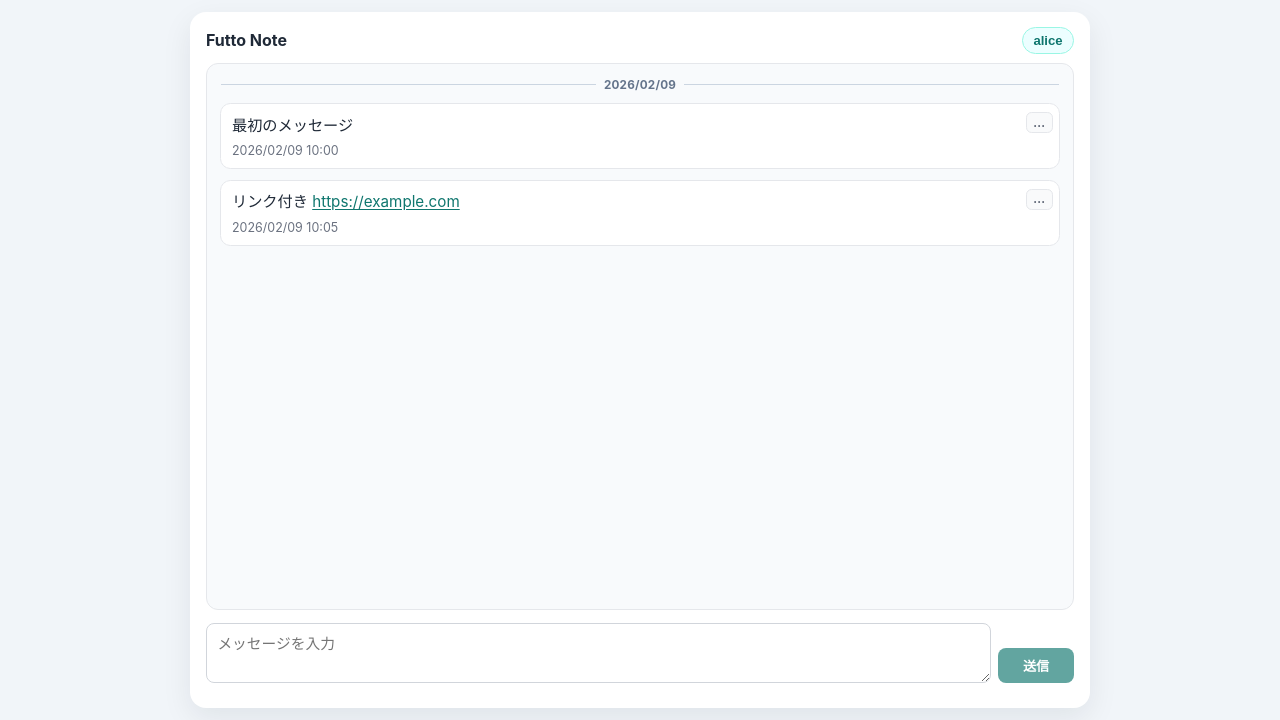
Test: App › 編集保存成功時に本文が更新される
Expected: the text "最初のメッセージ" is shown, [232,116,353,134]
Click the button with test id "message-menu-trigger" in the row of "最初のメッセージ" at {"x": 1040, "y": 123}, box [1026,112,1053,133]
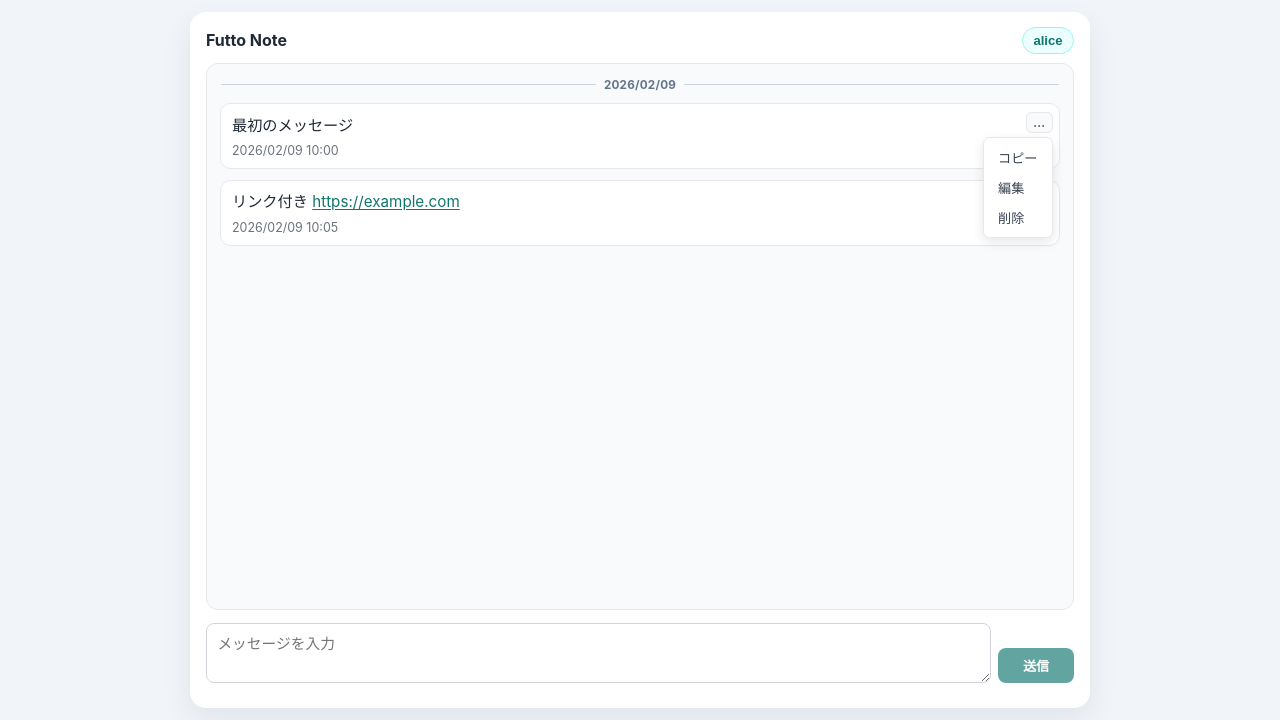
Click the button with test id "message-edit-button" at {"x": 1018, "y": 187}, box [988,172,1048,202]
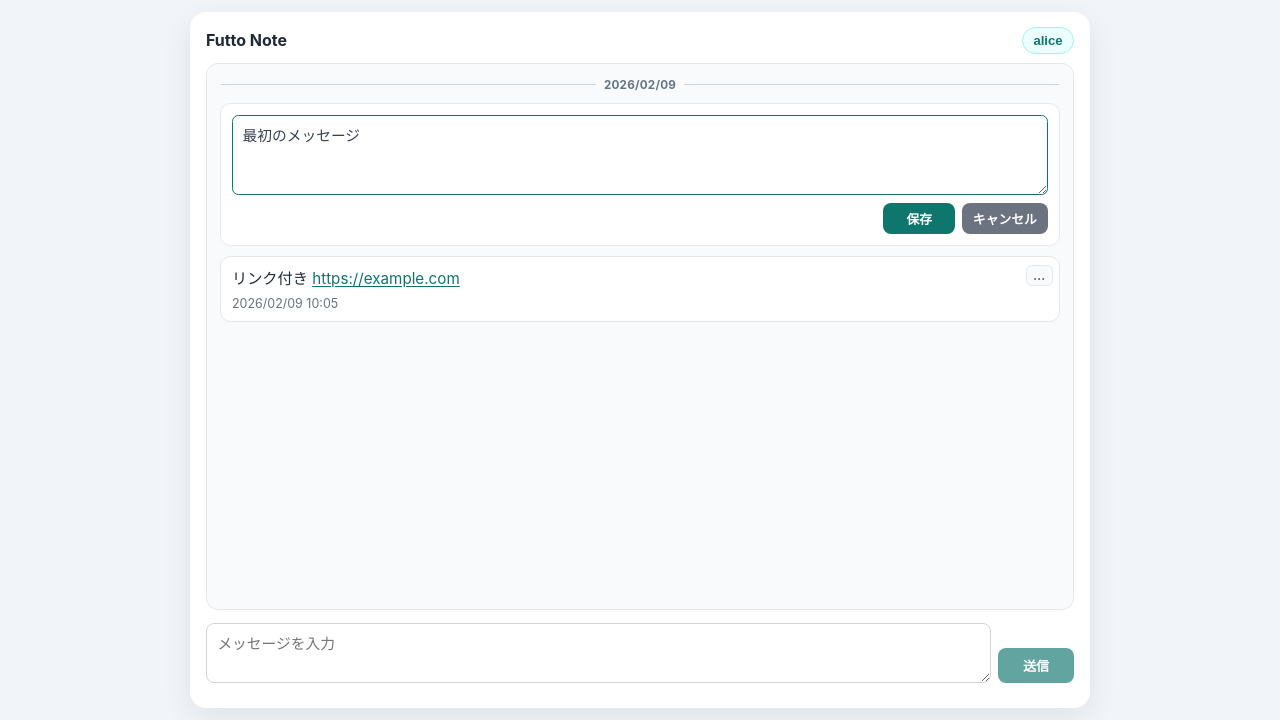
Replace the text in the text box with test id "edit-textarea" with "更新されたメッセージ" at {"x": 640, "y": 154}, box [232,114,1048,194]
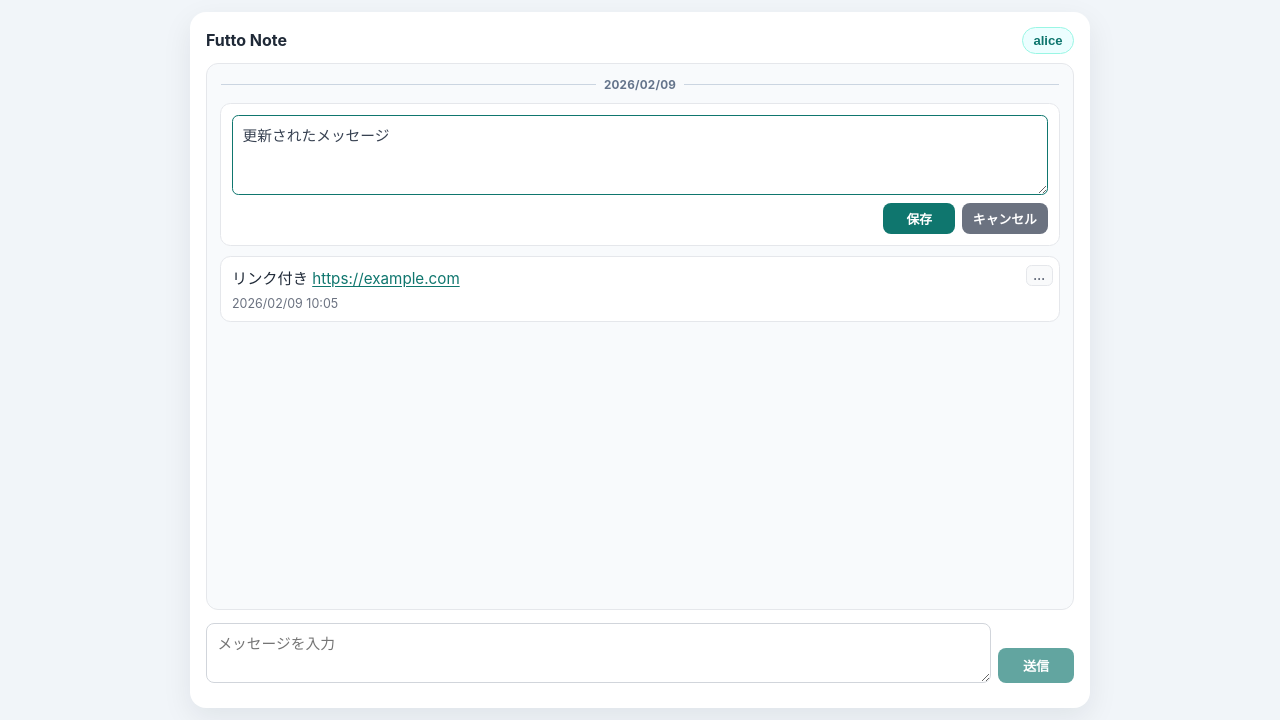
Click the button with test id "edit-save-button" at {"x": 919, "y": 218}, box [883,202,955,234]
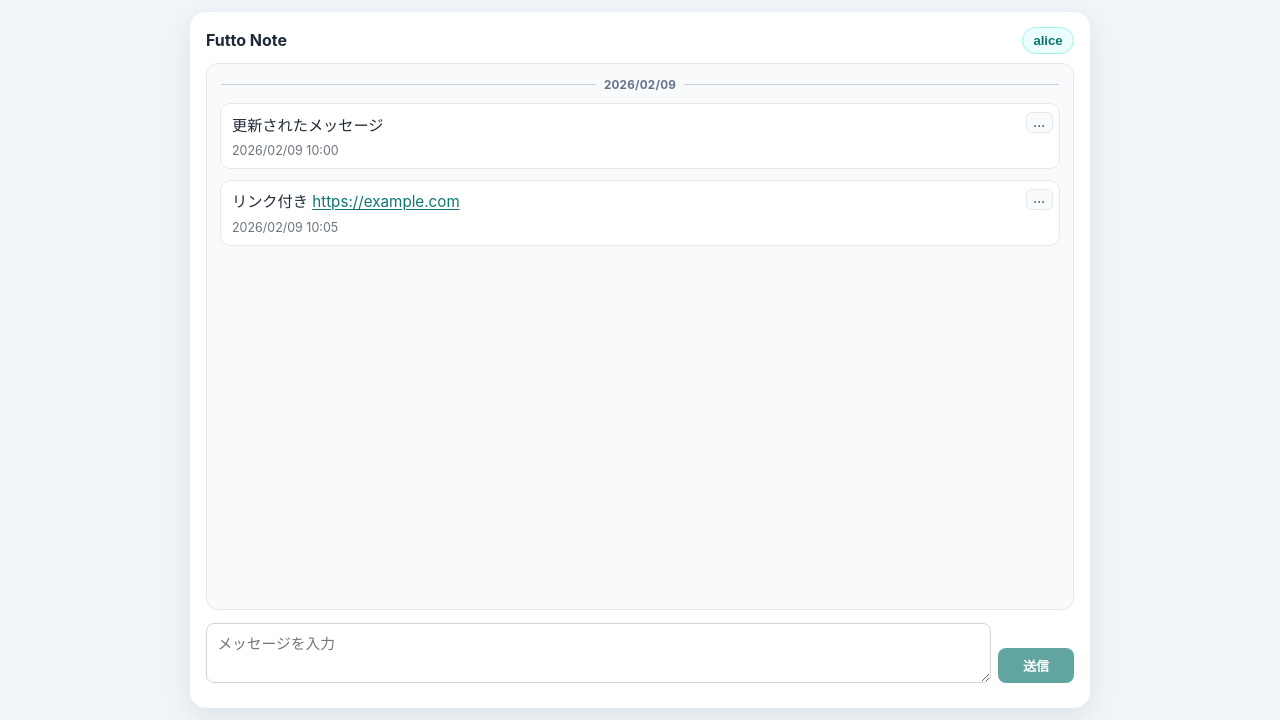
Expected: the text "更新されたメッセージ" is shown, [232,116,384,134]
Expected: the text box with test id "edit-textarea" is gone
